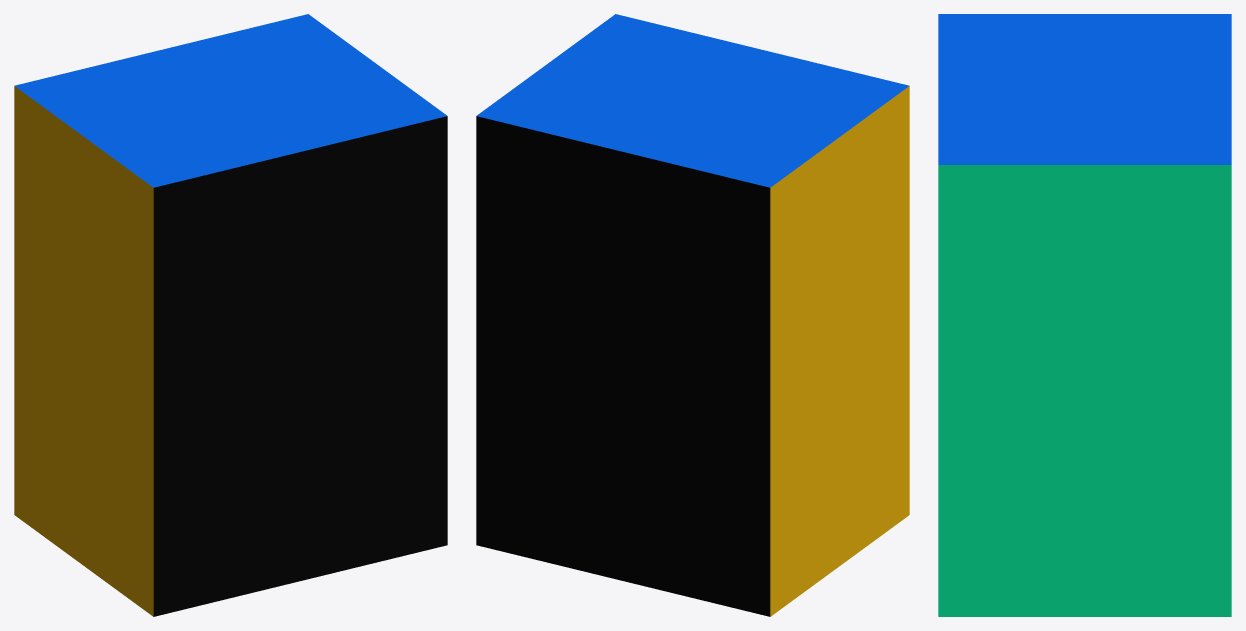
3 renders of one model, left to right at view 1: azimuth 30°, elevation 25°; view 2: azimuth 150°, elevation 25°; view 3: azimuth 270°, elevation 25°, orthographic. The views are drawn at different scales.
Visible parts, largest first — view 1: Box001; view 2: Box001; view 3: Box001.
Boxes of the visible parts, x1,y1,x2,y2 form: Box001: (14, 14, 447, 616); Box001: (476, 14, 909, 616); Box001: (938, 14, 1231, 616).
Size of the model in its own units: 18.01 by 25.1 by 14.78.
